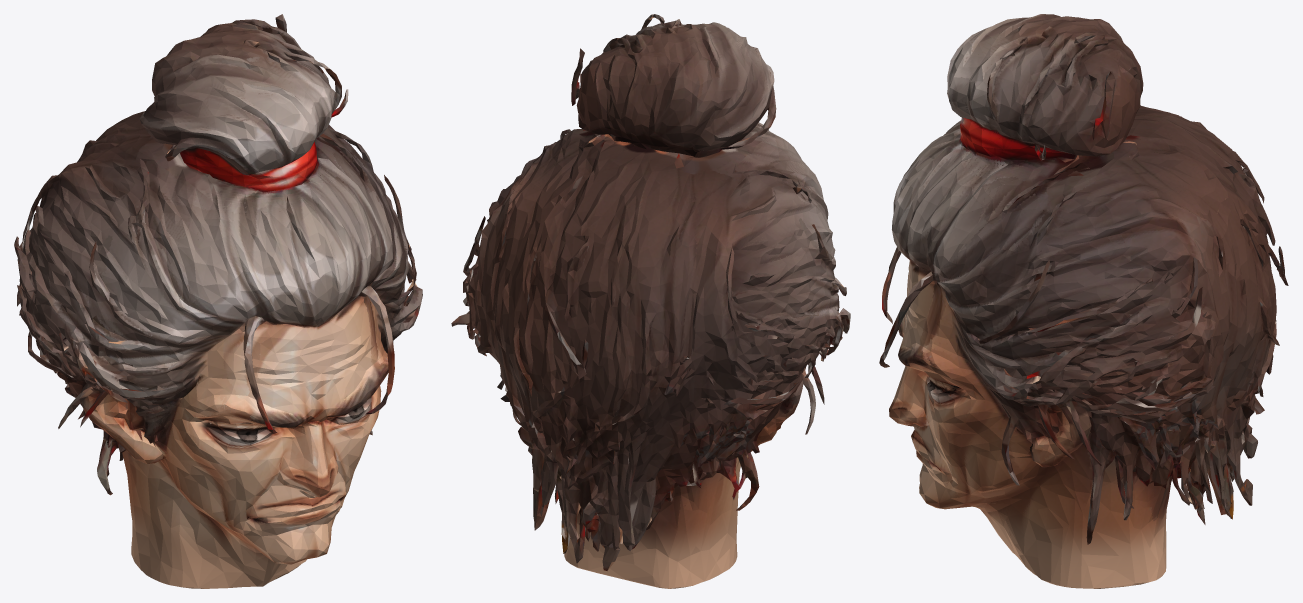
The model's file is side_maskmaker_repaired_atlas.glb.
3 views of the same model, side by side, from view 1: azimuth 30°, elevation 25°; view 2: azimuth 150°, elevation 25°; view 3: azimuth 270°, elevation 25° (orthographic). The views are drawn at different scales.
Visible parts, largest first — view 1: temp_mesh.ply; view 2: temp_mesh.ply; view 3: temp_mesh.ply.
Boxes of the visible parts, x1,y1,x2,y2 form: temp_mesh.ply: (14, 14, 422, 588); temp_mesh.ply: (451, 14, 850, 588); temp_mesh.ply: (879, 14, 1288, 588).
Bounding box in the file's own units: 1.37 × 1.97 × 1.39.
1 material, 1 textured.
